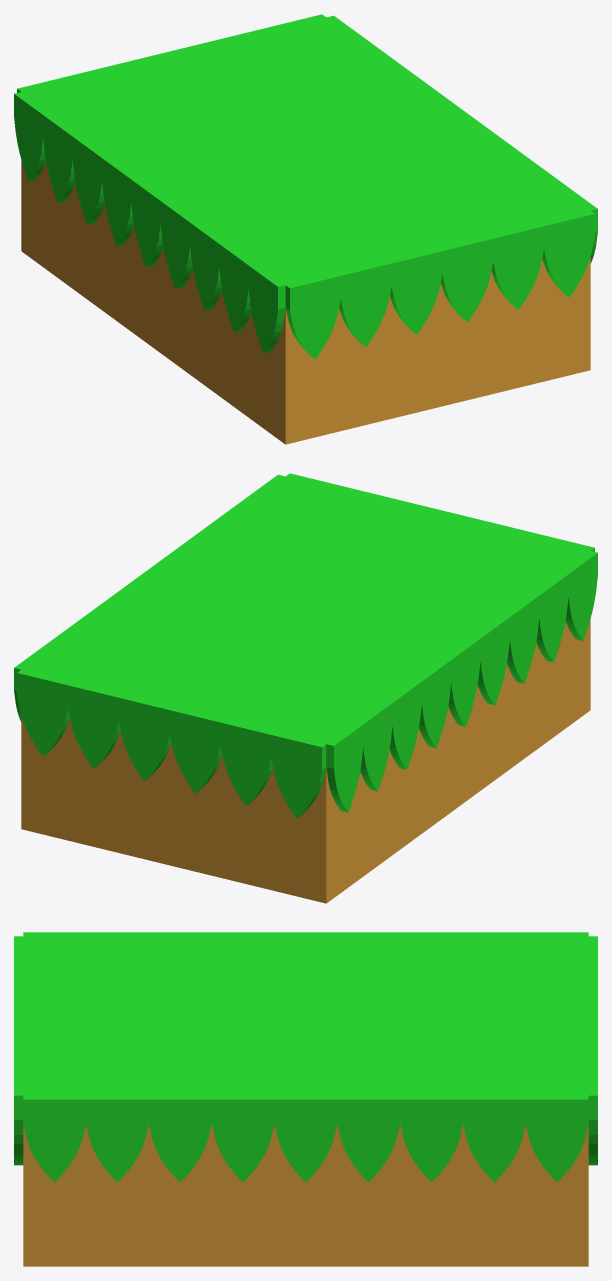
3 views of the same model, one above another, from view 1: azimuth 30°, elevation 25°; view 2: azimuth 150°, elevation 25°; view 3: azimuth 270°, elevation 25° (orthographic). The views are drawn at different scales.
Parts seen in each view (by area): view 1: Grassfield, Dirtblock; view 2: Grassfield, Dirtblock; view 3: Grassfield, Dirtblock.
Boxes of the visible parts, x1,y1,x2,y2 form: Grassfield: (14,14,597,359); Dirtblock: (21,160,590,444); Grassfield: (14,473,597,818); Dirtblock: (21,619,590,903); Grassfield: (14,932,597,1182); Dirtblock: (23,1124,588,1266).
Size of the model in its own units: 210 by 100 by 310.
